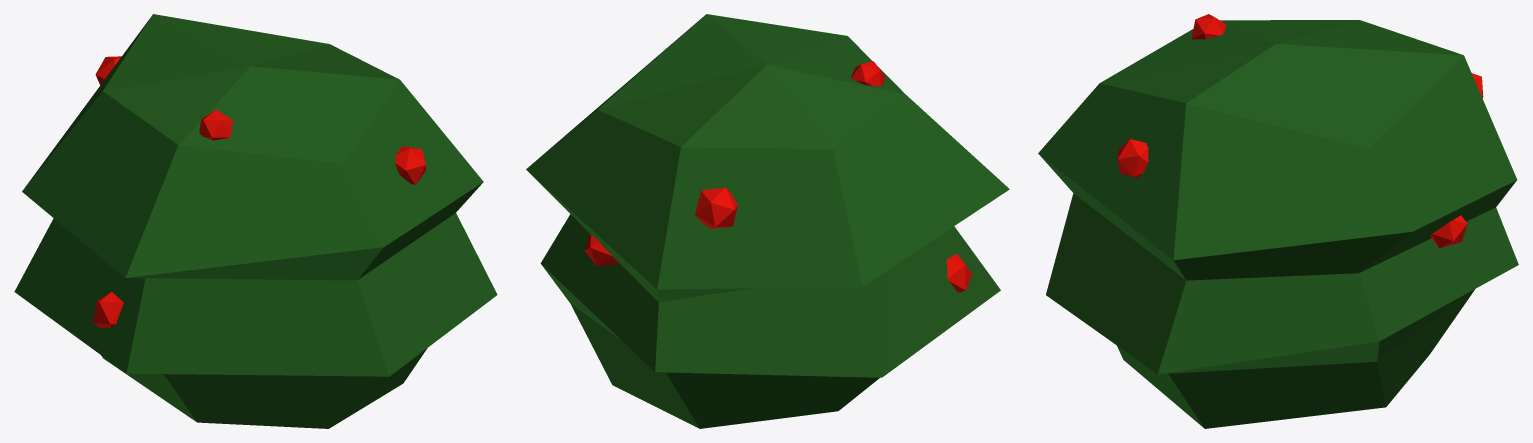
File: bush-berries2.glb
The picture shows the model from 3 angles, left to right: view 1: azimuth 30°, elevation 25°; view 2: azimuth 150°, elevation 25°; view 3: azimuth 270°, elevation 25°; orthographic projection. The views are drawn at different scales.
Visible parts, largest first — view 1: bush-berries1; view 2: bush-berries1; view 3: bush-berries1.
Boxes of the visible parts, x1,y1,x2,y2 form: bush-berries1: [14, 14, 497, 428]; bush-berries1: [526, 14, 1009, 428]; bush-berries1: [1038, 14, 1518, 428].
Size of the model in its own units: 1.04 by 0.8565 by 1.14.
